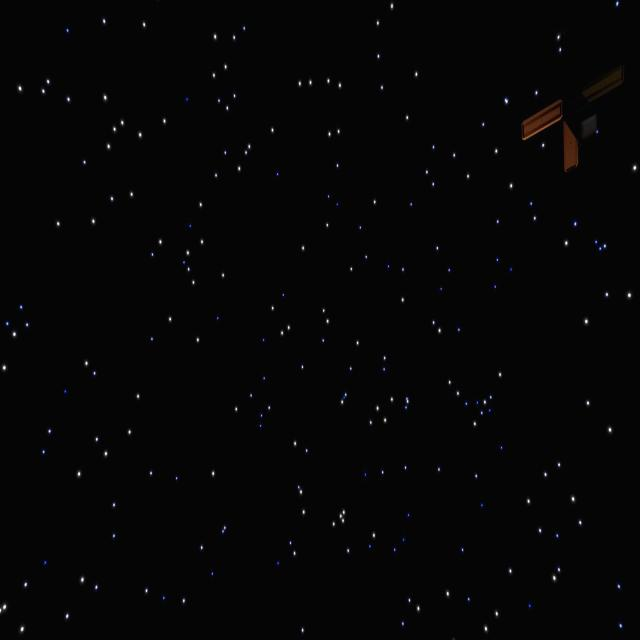satellite: (512, 57, 626, 182)
